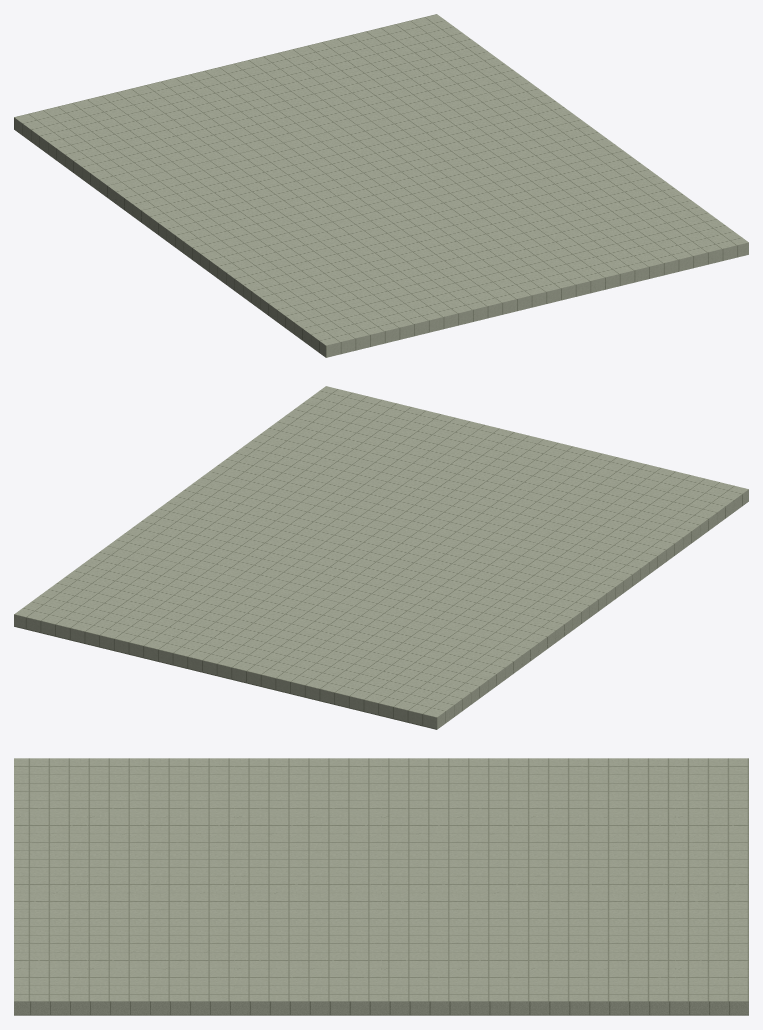
The model's file is cellar-floor.obj.
The picture shows the model from 3 angles, top to bottom: view 1: azimuth 30°, elevation 25°; view 2: azimuth 150°, elevation 25°; view 3: azimuth 270°, elevation 25°; orthographic projection. The views are drawn at different scales.
Bounding box in the file's own units: 14.4 × 0.4 × 18.4.
Materials: 1 (1 with a texture image).
